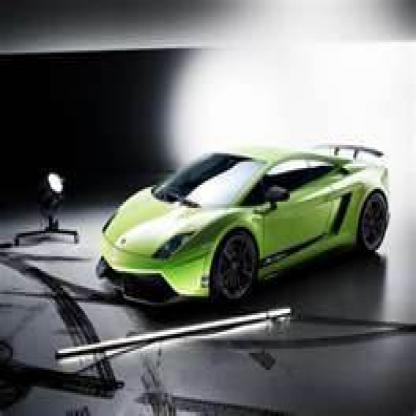Vehicle: (99, 151, 394, 313)
